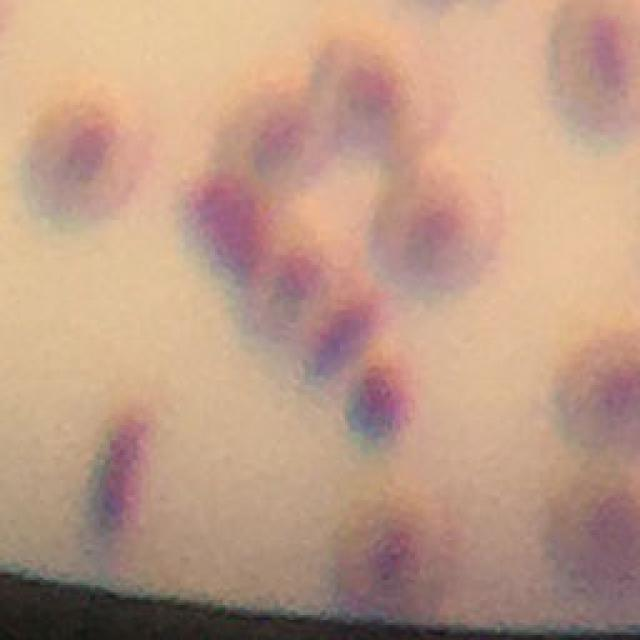RBC: (323, 472, 462, 623), (19, 90, 152, 237), (229, 232, 383, 358), (370, 162, 511, 298), (213, 61, 342, 197), (316, 37, 435, 168), (542, 472, 640, 619), (543, 0, 640, 148), (545, 323, 640, 472)
WBC: (186, 176, 281, 297), (81, 406, 157, 547), (305, 298, 389, 384), (345, 367, 420, 446)
